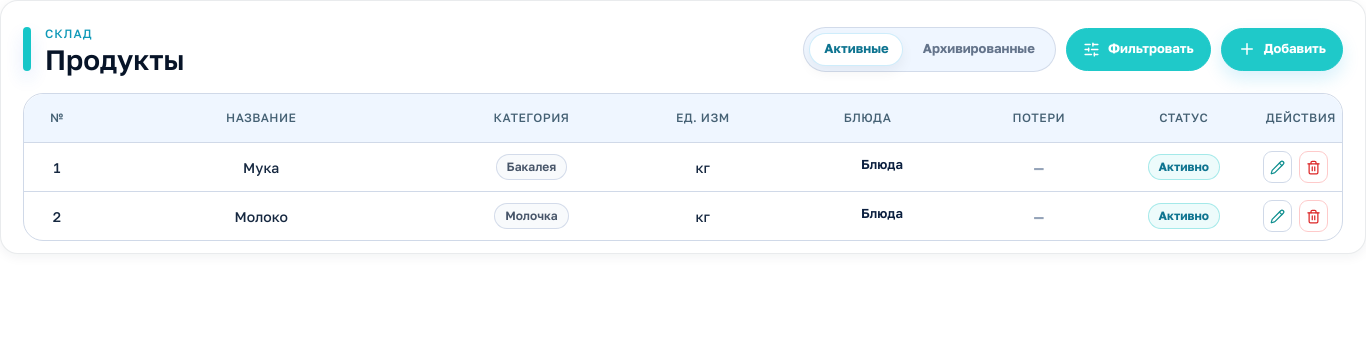
Scenario: RAW V2 Dishes visual family › 7. search and category filters apply through canonical fetch
expect the text "Мука" is shown: met, box [243, 158, 279, 176]
Click the button with class "dishes-filter-toggle" at (1138, 49), box [1066, 28, 1211, 70]
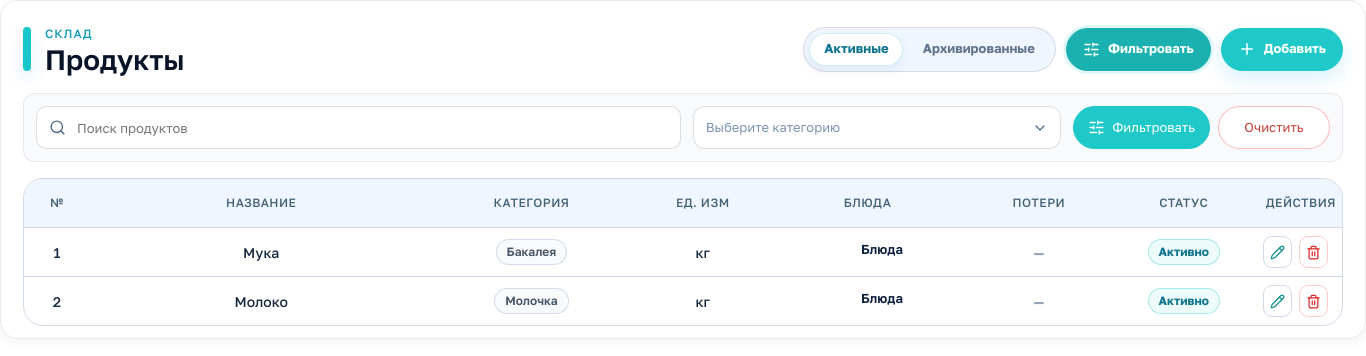
Type "молоко" into the field with placeholder "Поиск продуктов" at (358, 128), box [36, 106, 681, 149]
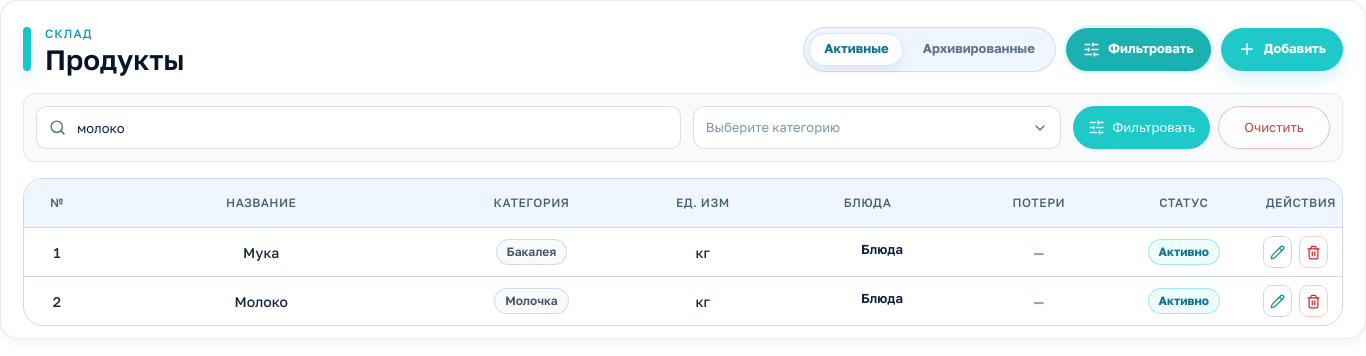
Click the button with class "report-filter-apply" at (1142, 128), box [1073, 106, 1210, 149]
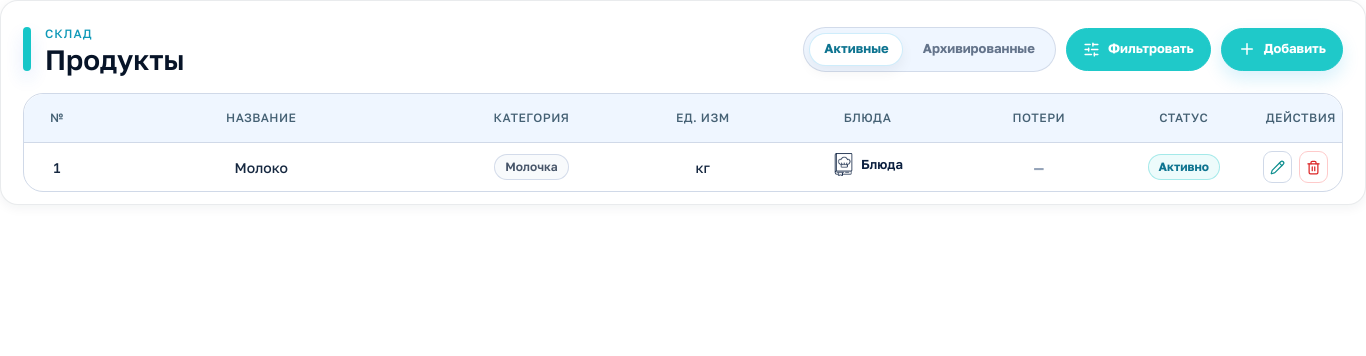
expect the table with class "raw-grid-table" shows "Молоко": met, box [235, 158, 288, 176]
expect the text with class "raw-grid-table" no longer shows "Мука": met
